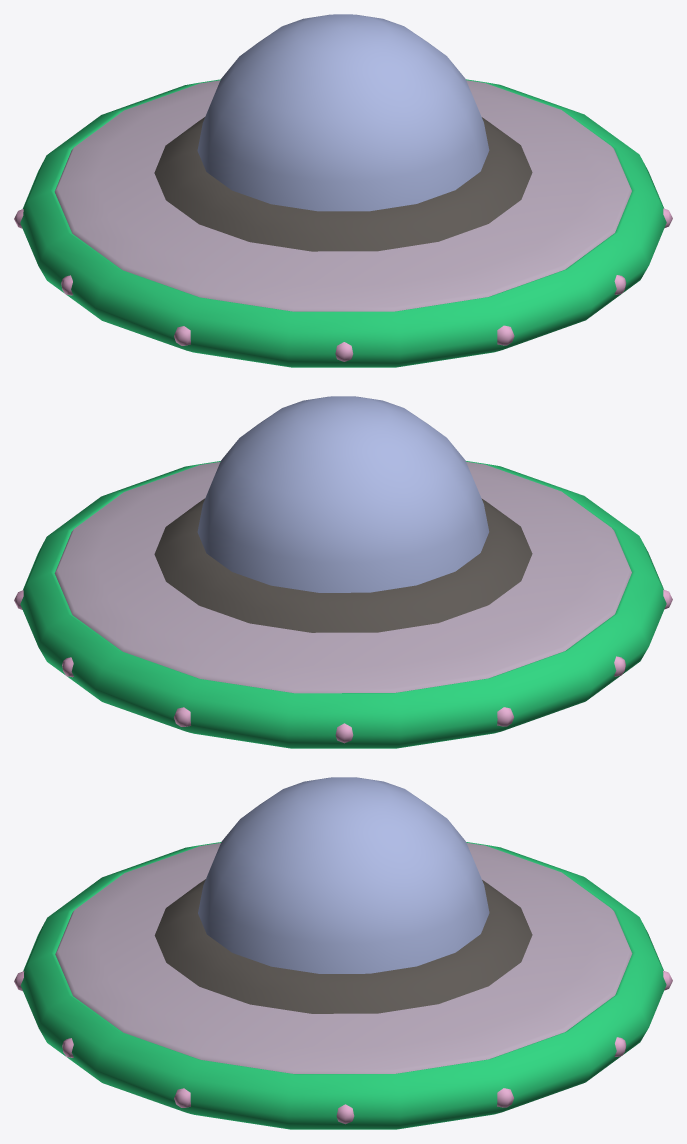
File: Hat_12_03.fbx
3 views of the same model, one above another, from view 1: azimuth 30°, elevation 25°; view 2: azimuth 150°, elevation 25°; view 3: azimuth 270°, elevation 25° (orthographic).
Parts seen in each view (by area): view 1: Hat_12_03; view 2: Hat_12_03; view 3: Hat_12_03.
Boxes of the visible parts, x1,y1,x2,y2 form: Hat_12_03: (14, 14, 672, 367); Hat_12_03: (14, 396, 672, 748); Hat_12_03: (14, 777, 672, 1129).
Size of the model in its own units: 79.52 by 34.07 by 80.72.
